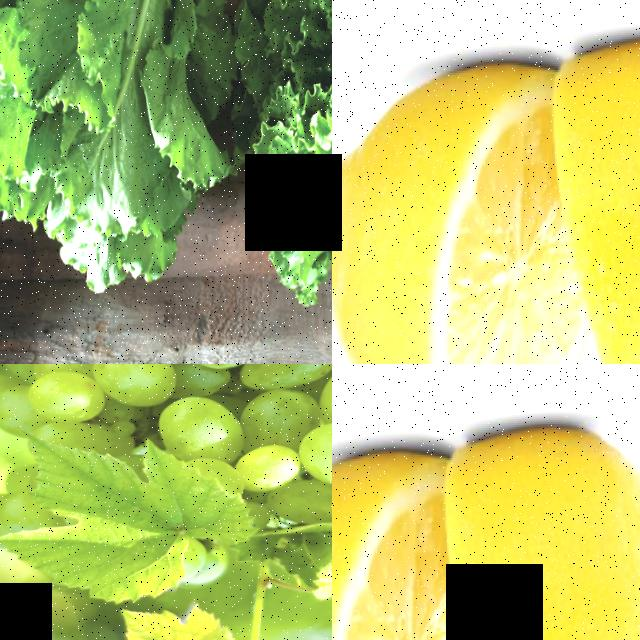grapes: (0, 364, 332, 487)
lemon: (332, 63, 559, 364), (440, 414, 640, 640), (548, 26, 640, 364), (332, 451, 451, 640)
lettuce: (0, 0, 229, 297), (238, 0, 332, 302)
